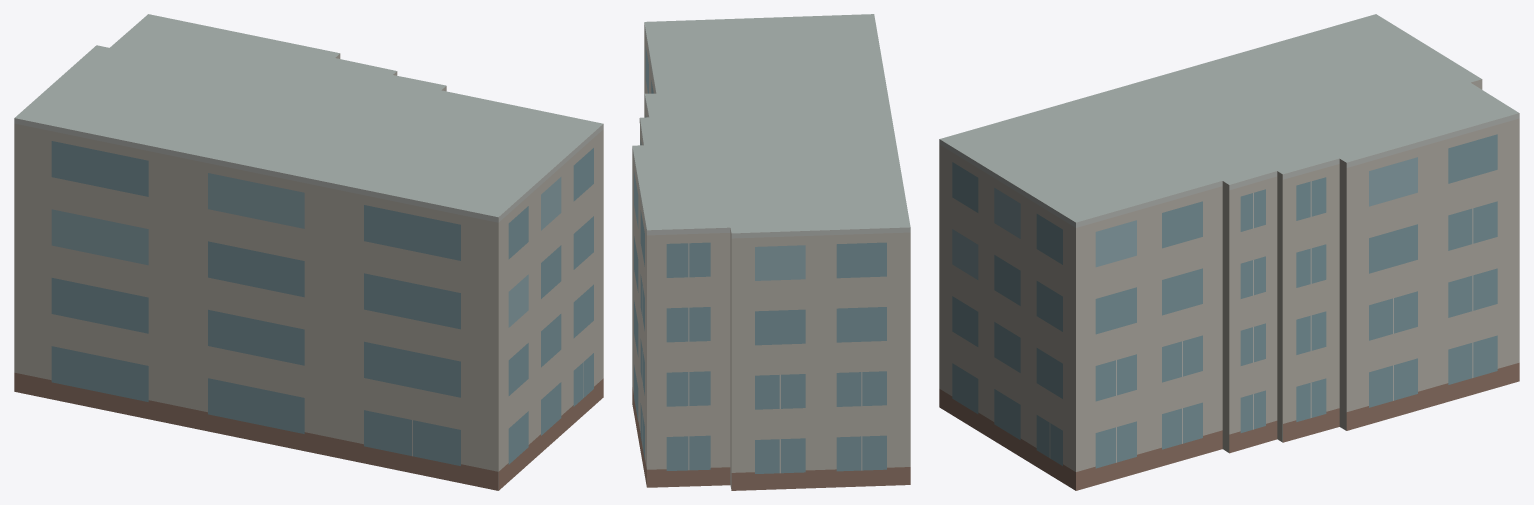
Rendered from survey-upis-32480533.glb.
The picture shows the model from 3 angles, left to right: view 1: azimuth 30°, elevation 25°; view 2: azimuth 150°, elevation 25°; view 3: azimuth 270°, elevation 25°; orthographic projection. The views are drawn at different scales.
Parts seen in each view (by area): view 1: survey-upis-32480533.tmp; view 2: survey-upis-32480533.tmp; view 3: survey-upis-32480533.tmp.
Part boxes in pixels (x1=…): survey-upis-32480533.tmp: x1=14, y1=14, x2=603, y2=490; survey-upis-32480533.tmp: x1=632, y1=14, x2=910, y2=490; survey-upis-32480533.tmp: x1=939, y1=14, x2=1519, y2=490.
Bounding box in the file's own units: 20.36 × 12.2 × 23.92.
